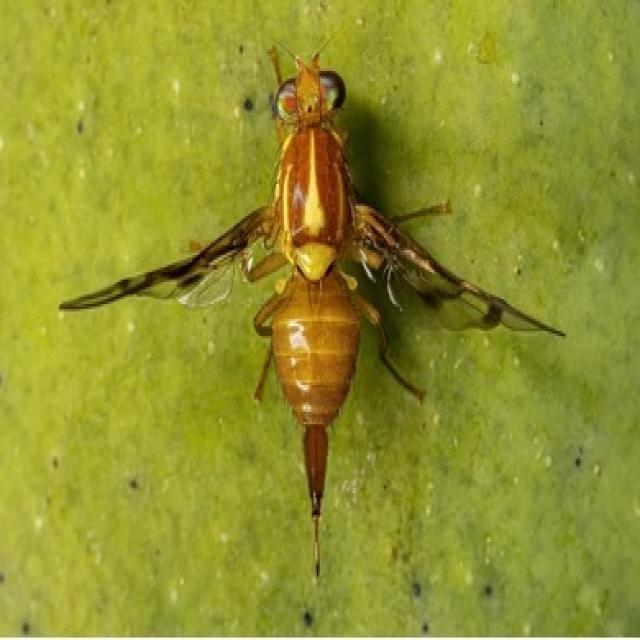Fruit fly: (48, 35, 580, 603)
